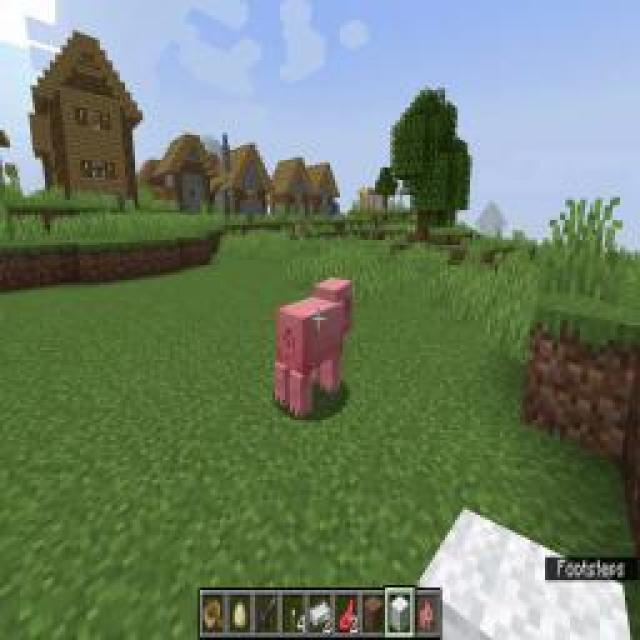Pig: (272, 271, 356, 424)
